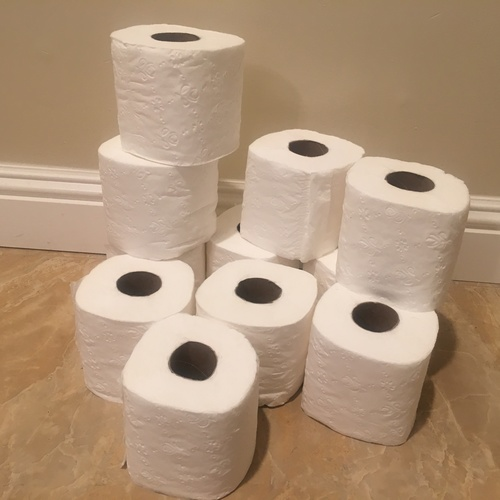roll: (121, 313, 259, 500), (300, 281, 438, 444), (334, 157, 470, 317), (109, 22, 244, 167), (196, 259, 316, 406), (73, 255, 193, 402), (240, 128, 366, 262), (97, 128, 216, 261), (205, 202, 303, 275)
